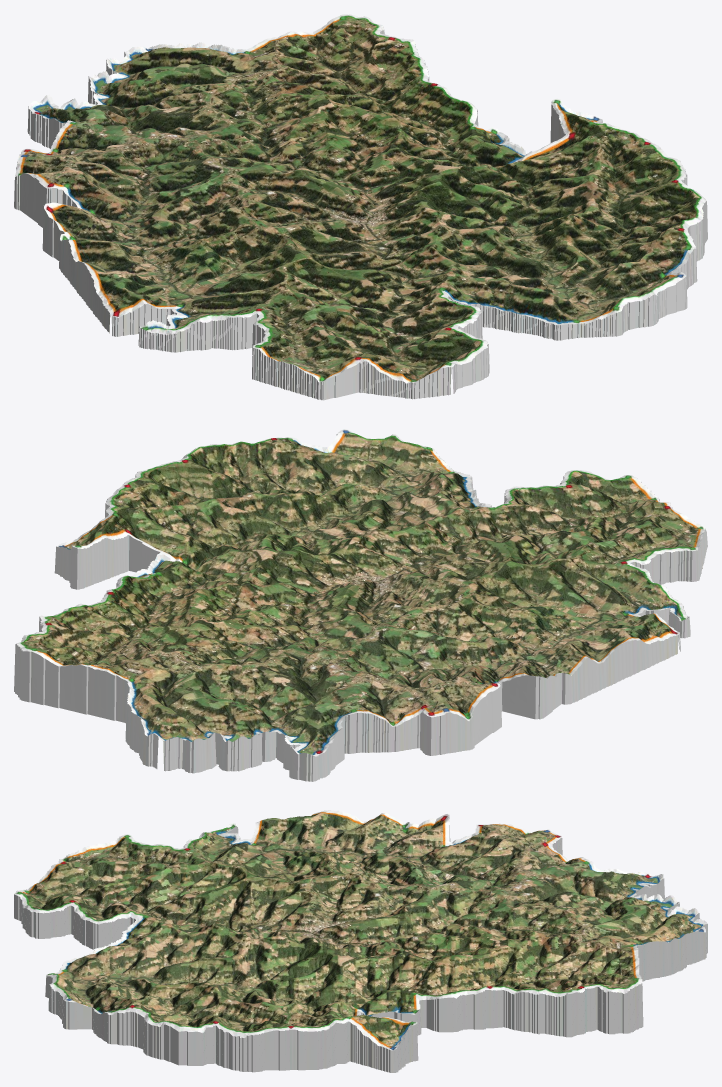
3 views of the same model, one above another, from view 1: azimuth 30°, elevation 25°; view 2: azimuth 150°, elevation 25°; view 3: azimuth 270°, elevation 25° (orthographic). The views are drawn at different scales.
Bounding box in the file's own units: 0.9999 × 0.0876 × 1.23.
1 material, 1 textured.
